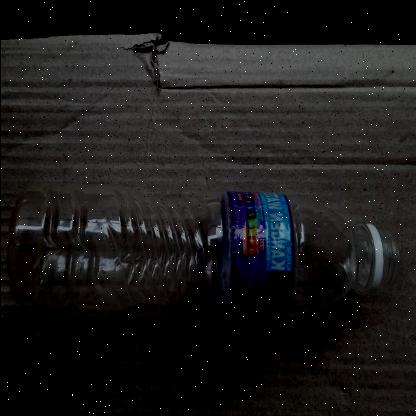Plastic Bottle: (6, 186, 398, 319)
